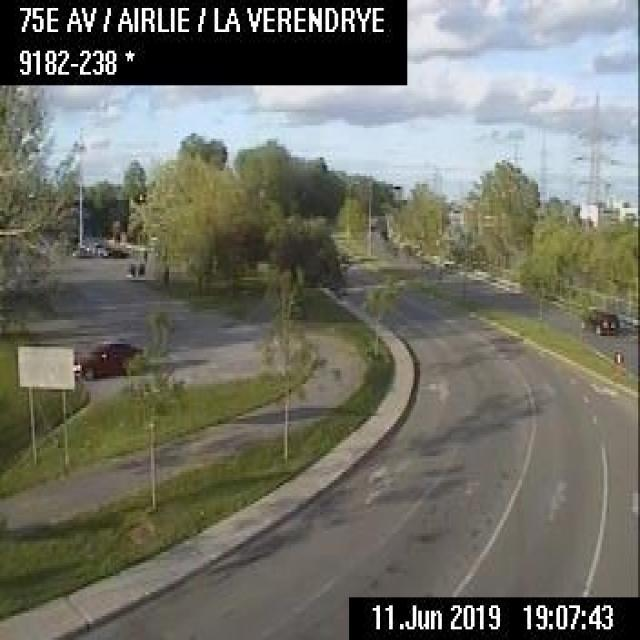vehicle: (73, 334, 144, 375), (578, 304, 620, 336)
